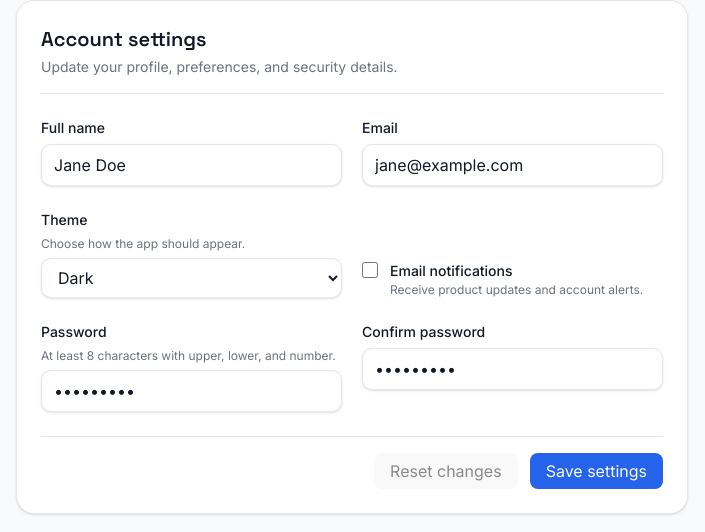
it: SettingsForm › resets dirty fields back to the initial values
In the field labelled "Full name": (192, 165) [41,144,342,186], type "Updated Name"
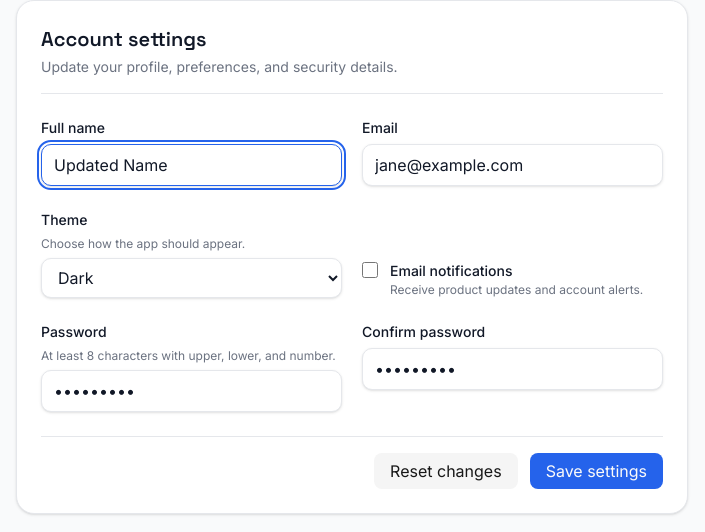
Result: the button "Reset changes" is enabled
Click the button "Reset changes": (446, 471) [374,453,518,489]
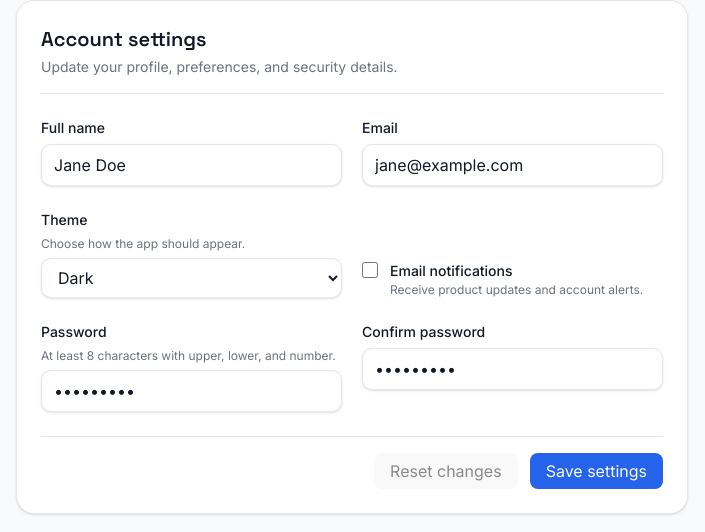
Result: the field labelled "Full name" holds "Jane Doe" at [41,144,342,186]
Result: the button "Reset changes" is disabled at [374,453,518,489]
